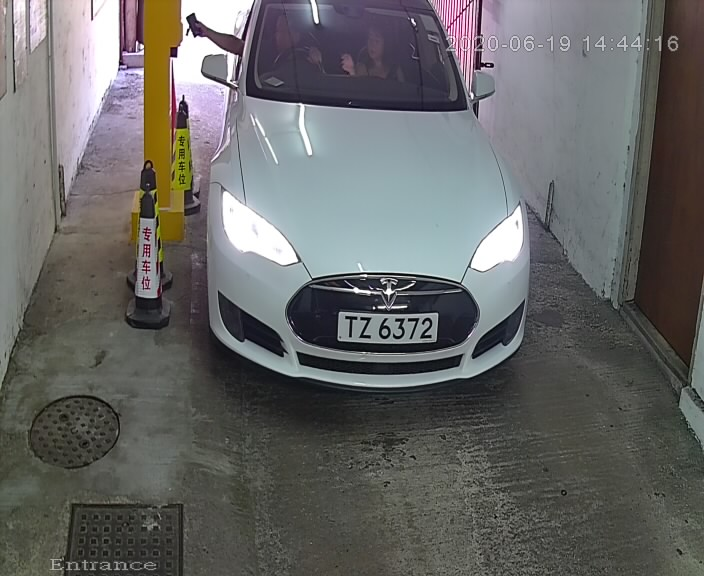privatecar: (193, 3, 543, 401)
